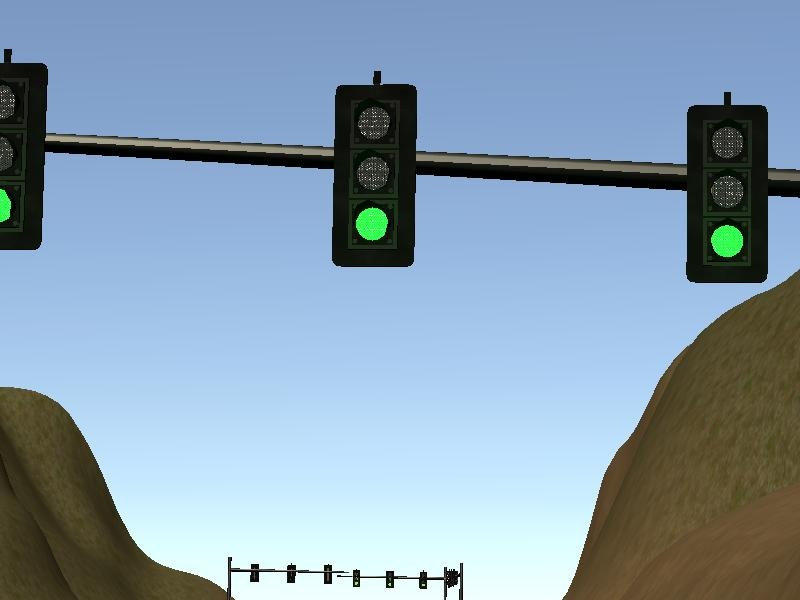traffic_light_green: (1, 44, 800, 286)
